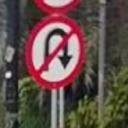NoVirarU: (24, 14, 88, 92)
